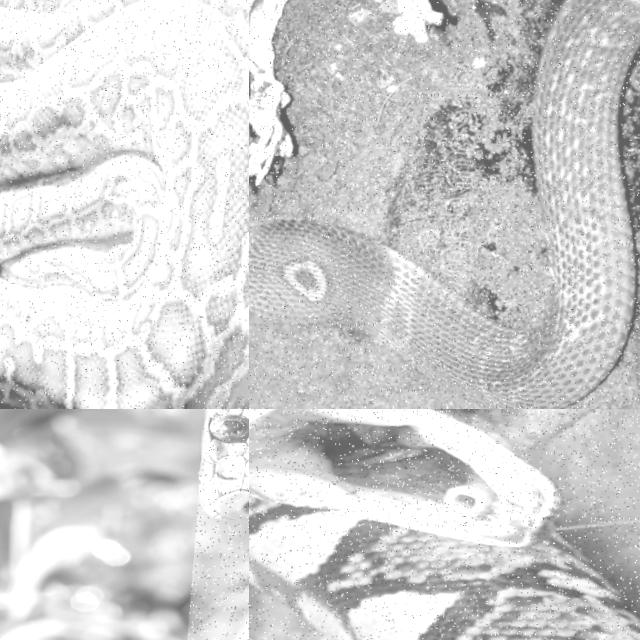Malayopython reticulatus: (249, 409, 639, 639)
Naja kaouthia: (249, 0, 639, 408)
Naja siamensis: (200, 409, 248, 520)
Python bivittatus: (0, 0, 248, 408)
